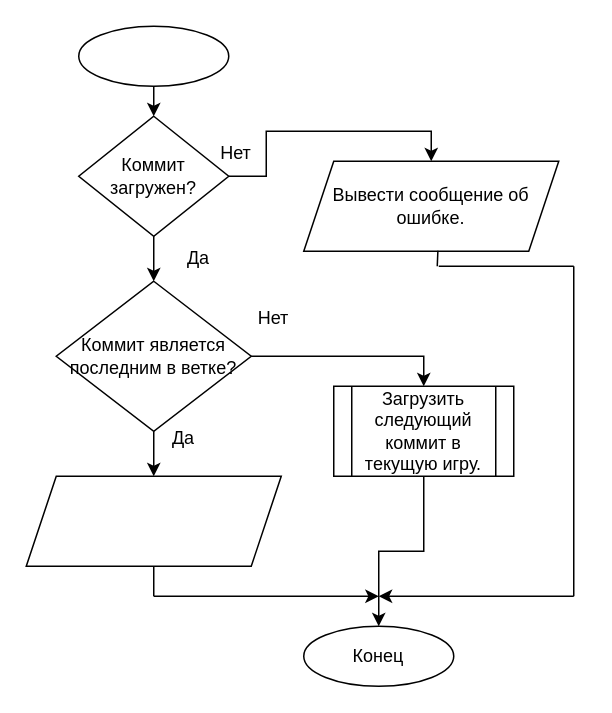
The diagram is 612 pixels wide and 713 high, and some of its shapes have lost their labels. Here are the shapes that lost their labels. From the top down, the centre of each, then its label:
At pixel 153 55: "Начало".
At pixel 153 520: "Вывести сообщение о том, что текущий коммит последний.".
